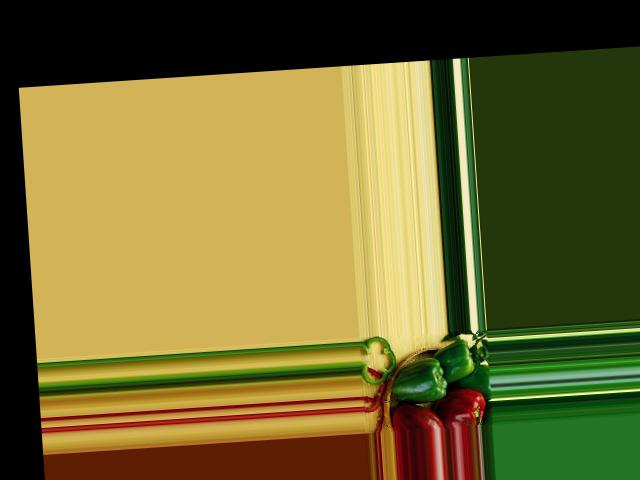bell_pepper: (390, 403, 445, 430)
